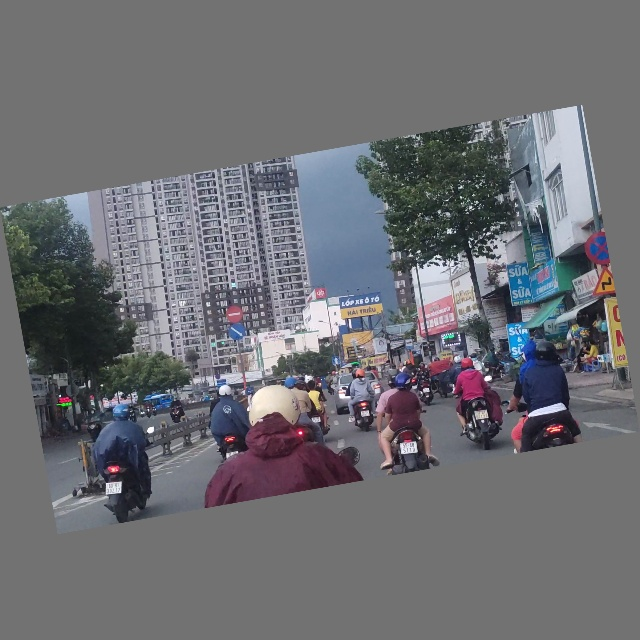I.407a: (331, 356, 341, 366)
I.434a: (404, 339, 414, 351)
P.102: (225, 306, 245, 325)
P.130: (582, 230, 610, 268)
R.302a: (228, 323, 246, 342)
W.202b: (588, 267, 615, 296)
